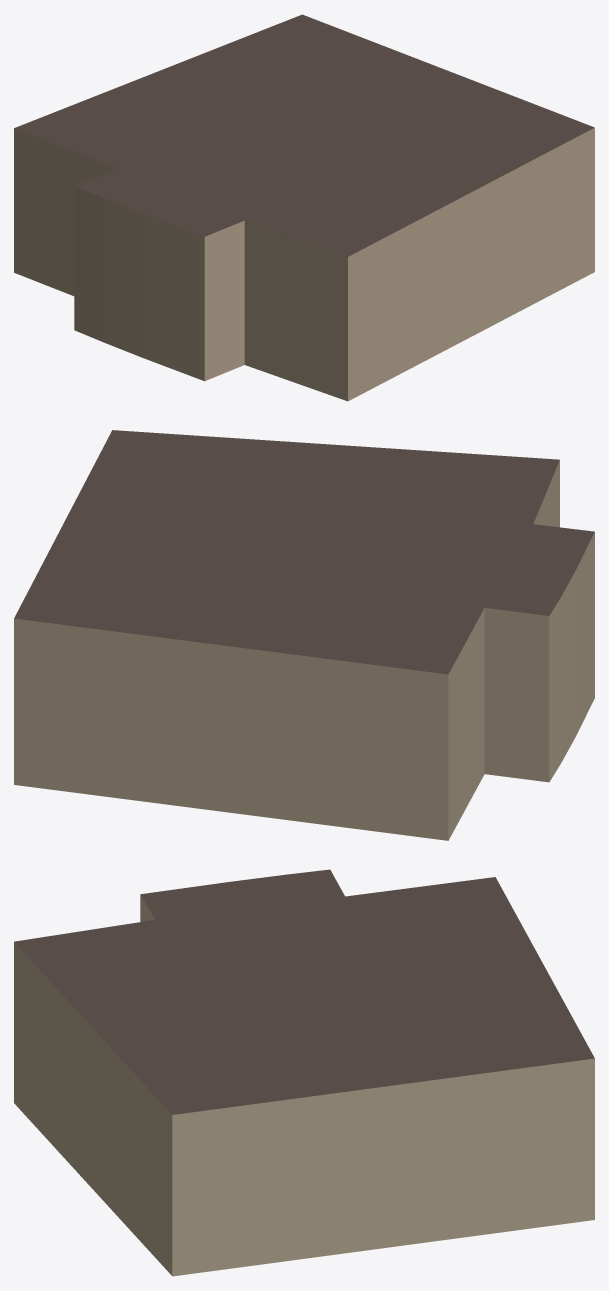
The picture shows the model from 3 angles, top to bottom: view 1: azimuth 30°, elevation 25°; view 2: azimuth 150°, elevation 25°; view 3: azimuth 270°, elevation 25°; orthographic projection. The views are drawn at different scales.
Visible parts, largest first — view 1: HP-w1197020930; view 2: HP-w1197020930; view 3: HP-w1197020930.
Part boxes in pixels (x1,y1,x2,y2): HP-w1197020930: (14,14,594,401); HP-w1197020930: (14,430,594,840); HP-w1197020930: (14,869,594,1276).
Size of the model in its own units: 29.35 by 9 by 29.35.
